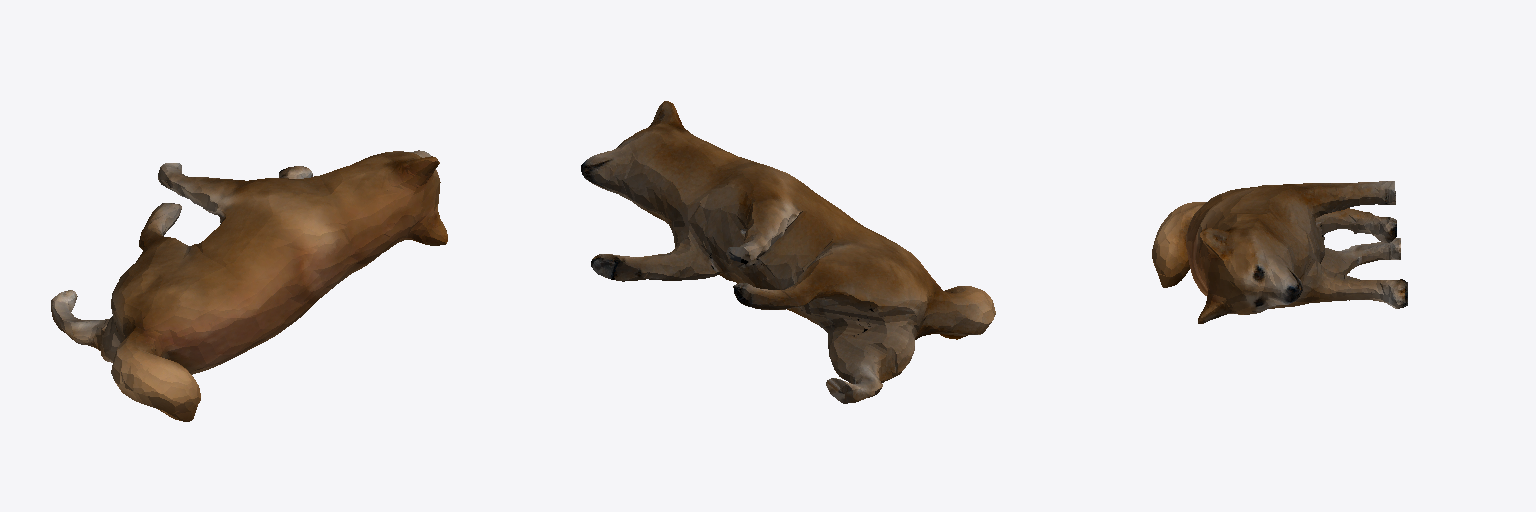
The picture shows the model from 3 angles: view 1: azimuth 30°, elevation 25°; view 2: azimuth 150°, elevation 25°; view 3: azimuth 270°, elevation 25°; orthographic projection.
Size of the model in its own units: 0.6931 by 0.3407 by 0.4253.
Materials: 1 (1 with a texture image).